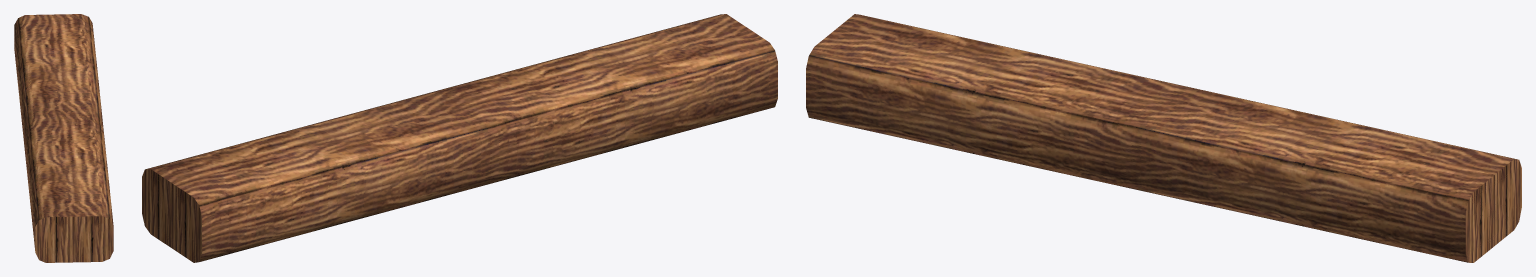
Rendered from OVERHILL_A_01_LINE224.fbx.
3 renders of one model, left to right at view 1: azimuth 30°, elevation 25°; view 2: azimuth 150°, elevation 25°; view 3: azimuth 270°, elevation 25°, orthographic. The views are drawn at different scales.
Parts seen in each view (by area): view 1: OVERHILL_A_01_LINE224; view 2: OVERHILL_A_01_LINE224; view 3: OVERHILL_A_01_LINE224.
Part boxes in pixels (x1,y1,x2,y2): OVERHILL_A_01_LINE224: (14, 14, 113, 262); OVERHILL_A_01_LINE224: (142, 14, 777, 262); OVERHILL_A_01_LINE224: (806, 14, 1521, 262).
Bounding box in the file's own units: 26964 × 4688 × 42776.
1 material, 1 textured.
